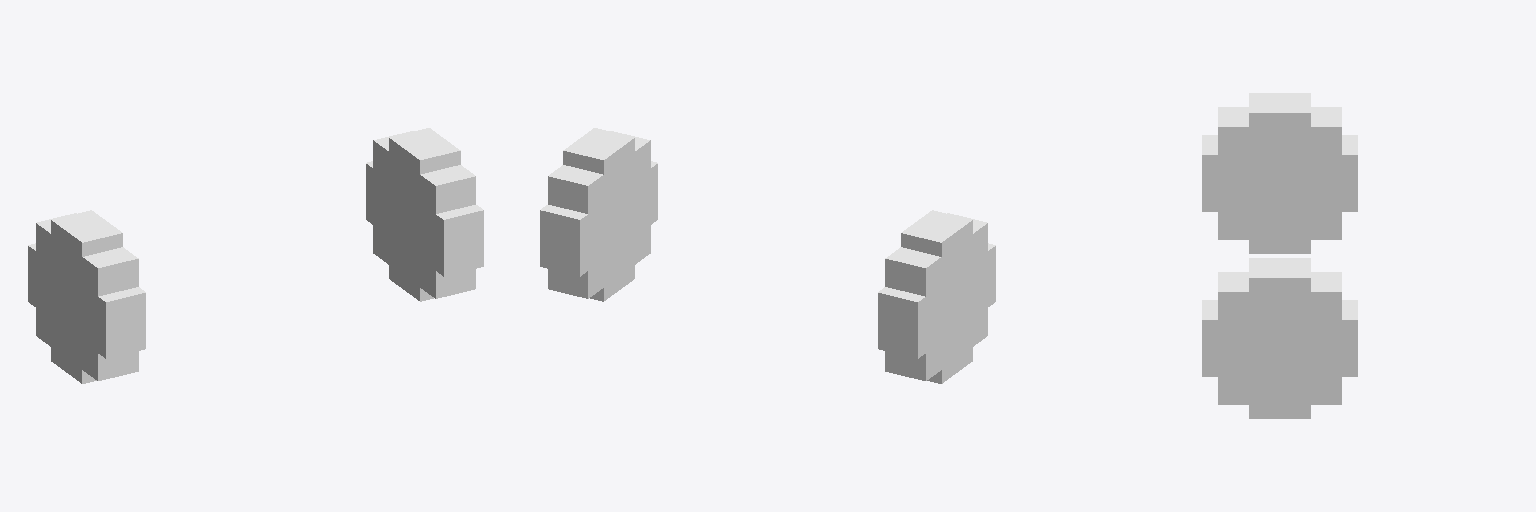
The model's file is AmbulanceBackWheels.obj.
The picture shows the model from 3 angles: view 1: azimuth 30°, elevation 25°; view 2: azimuth 150°, elevation 25°; view 3: azimuth 270°, elevation 25°; orthographic projection.
Visible parts, largest first — view 1: object 1; view 2: object 1; view 3: object 1.
Boxes of the visible parts, x1=… form: object 1: x1=28, y1=128, x2=483, y2=383; object 1: x1=540, y1=128, x2=995, y2=383; object 1: x1=1202, y1=93, x2=1357, y2=418.
Size of the model in its own units: 2.8 by 1 by 1.